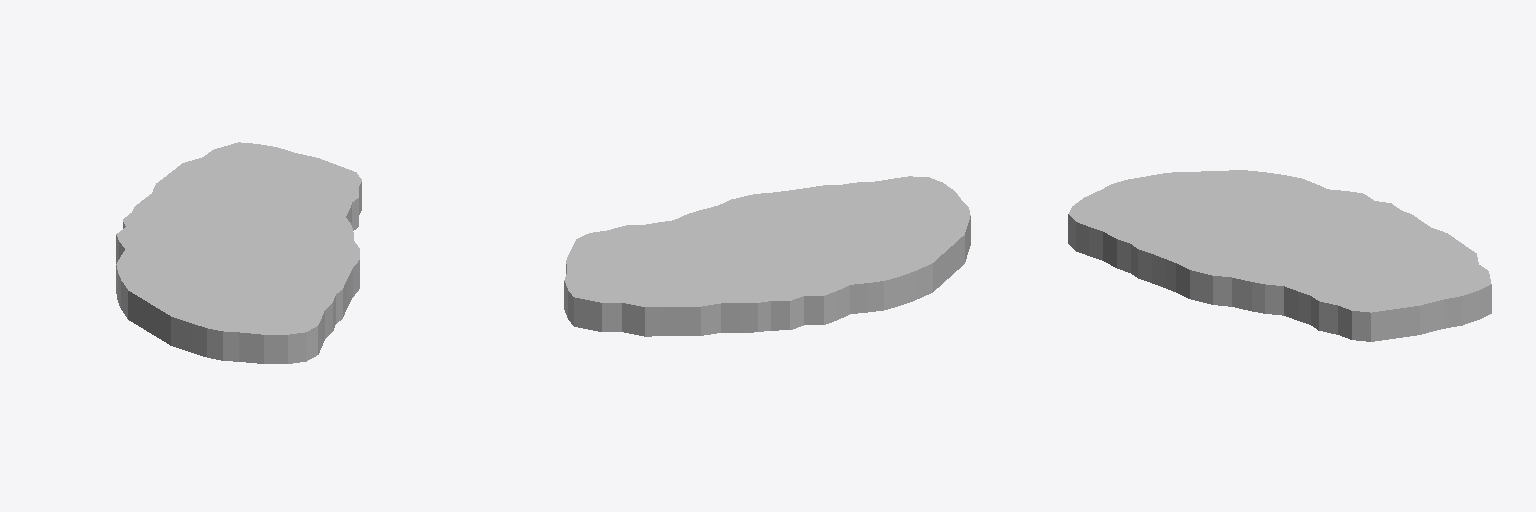
The model's file is island_01_c.obj.
The picture shows the model from 3 angles: view 1: azimuth 30°, elevation 25°; view 2: azimuth 150°, elevation 25°; view 3: azimuth 270°, elevation 25°; orthographic projection.
Parts seen in each view (by area): view 1: Island_01_C_Grid.006; view 2: Island_01_C_Grid.006; view 3: Island_01_C_Grid.006.
Part boxes in pixels (x1,y1,x2,y2): Island_01_C_Grid.006: (116,142,361,363); Island_01_C_Grid.006: (564,176,970,336); Island_01_C_Grid.006: (1068,170,1491,341).
Size of the model in its own units: 41.57 by 4 by 52.16.